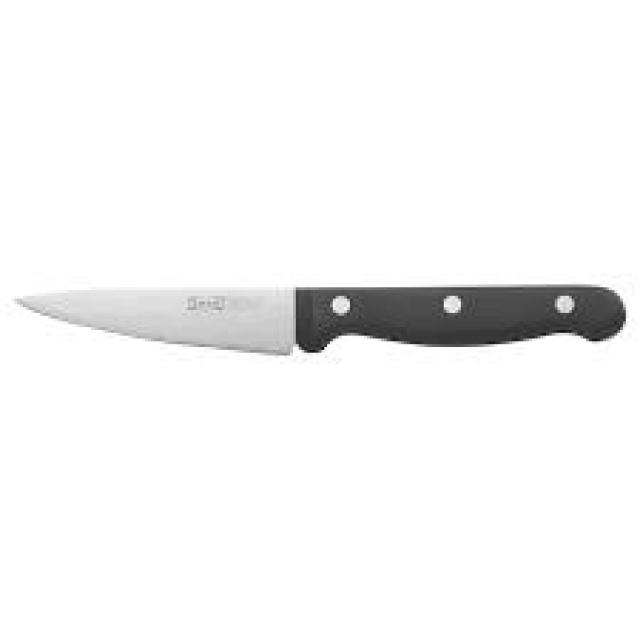Knife: (2, 242, 640, 419)
